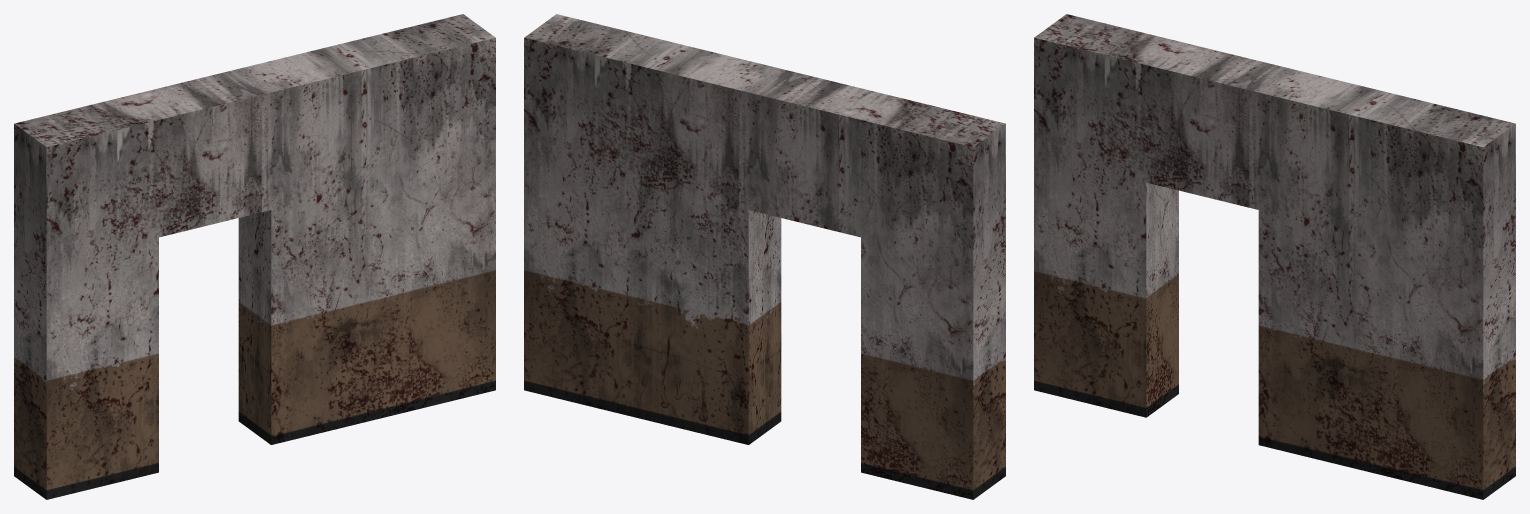
File: Mesh_Env_WallDoor02.fbx
The picture shows the model from 3 angles, left to right: view 1: azimuth 30°, elevation 25°; view 2: azimuth 150°, elevation 25°; view 3: azimuth 330°, elevation 25°; orthographic projection.
Visible parts, largest first — view 1: Mesh_Env_WallDoor02; view 2: Mesh_Env_WallDoor02; view 3: Mesh_Env_WallDoor02.
Boxes of the visible parts, x1,y1,x2,y2 form: Mesh_Env_WallDoor02: (14,14,495,499); Mesh_Env_WallDoor02: (524,14,1005,499); Mesh_Env_WallDoor02: (1034,14,1515,499).
Bounding box in the file's own units: 400 × 300 × 50.
